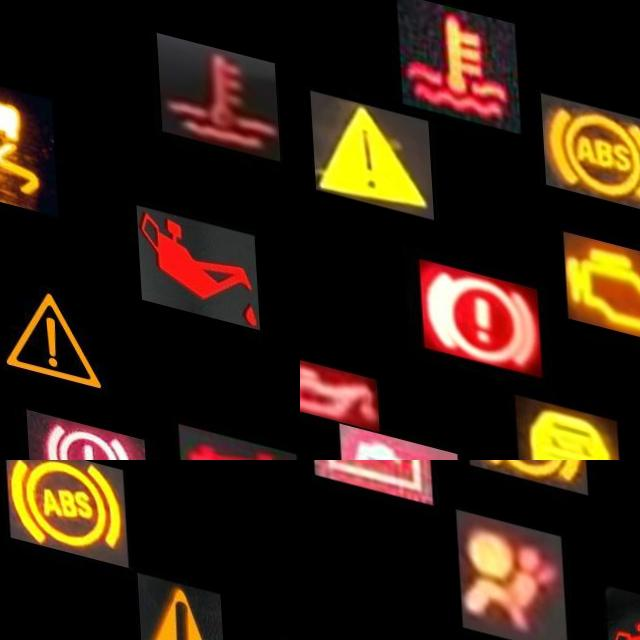Central Warning lamp: (0, 258, 107, 401), (308, 83, 431, 206), (133, 565, 222, 640)
Engine cooling system: (155, 20, 278, 144), (396, 0, 519, 115)
